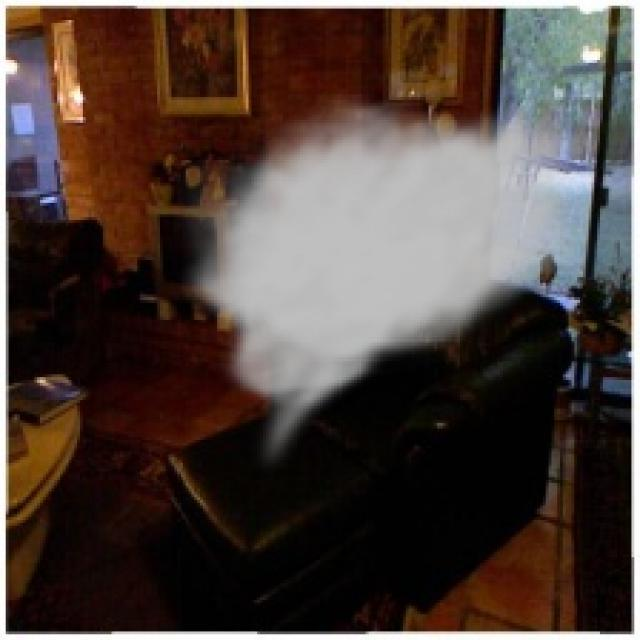Smoke: (175, 94, 600, 474)
